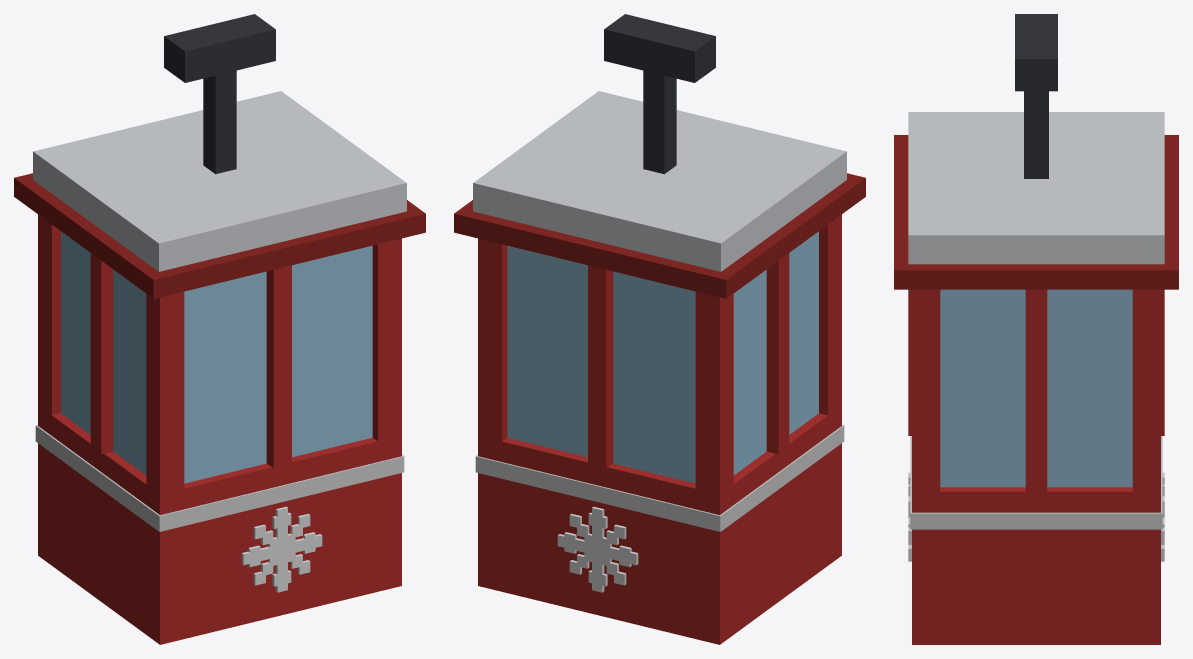
Rendered from ntu-cable-cabin.glb.
The picture shows the model from 3 angles, left to right: view 1: azimuth 30°, elevation 25°; view 2: azimuth 150°, elevation 25°; view 3: azimuth 270°, elevation 25°; orthographic projection.
Parts seen in each view (by area): view 1: box-prop; view 2: box-prop; view 3: box-prop.
Part boxes in pixels (<box>): box-prop: <box>14,14,425,644</box>; box-prop: <box>454,14,865,644</box>; box-prop: <box>894,14,1178,644</box>.
Bounding box in the file's own units: 1.8 × 3.4 × 1.6.
